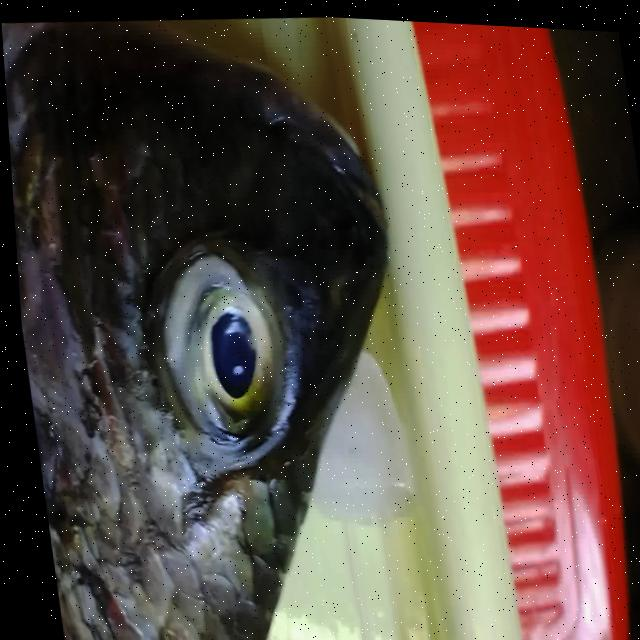Fresh: (137, 208, 313, 488)
